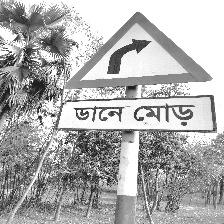Right-turn: (60, 11, 217, 133)
